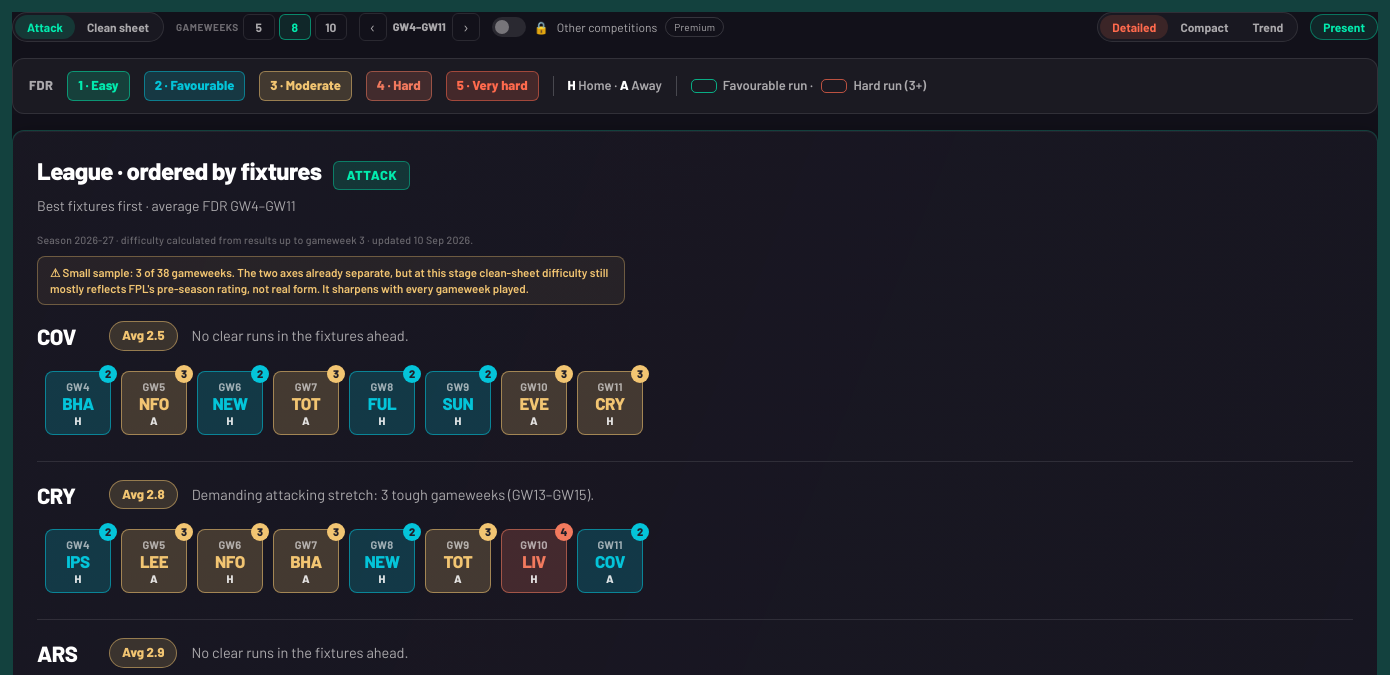
it: the /fixtures board › English: the locked switch for Free and Tribuna
This screenshot has width=1390, height=675.
expect the text "GW4–GW11" is shown: met, box [393,19,446,35]
Click the switch with test id "locked-competitions-toggle".
click(608, 27)  # box [492,17,724,37]
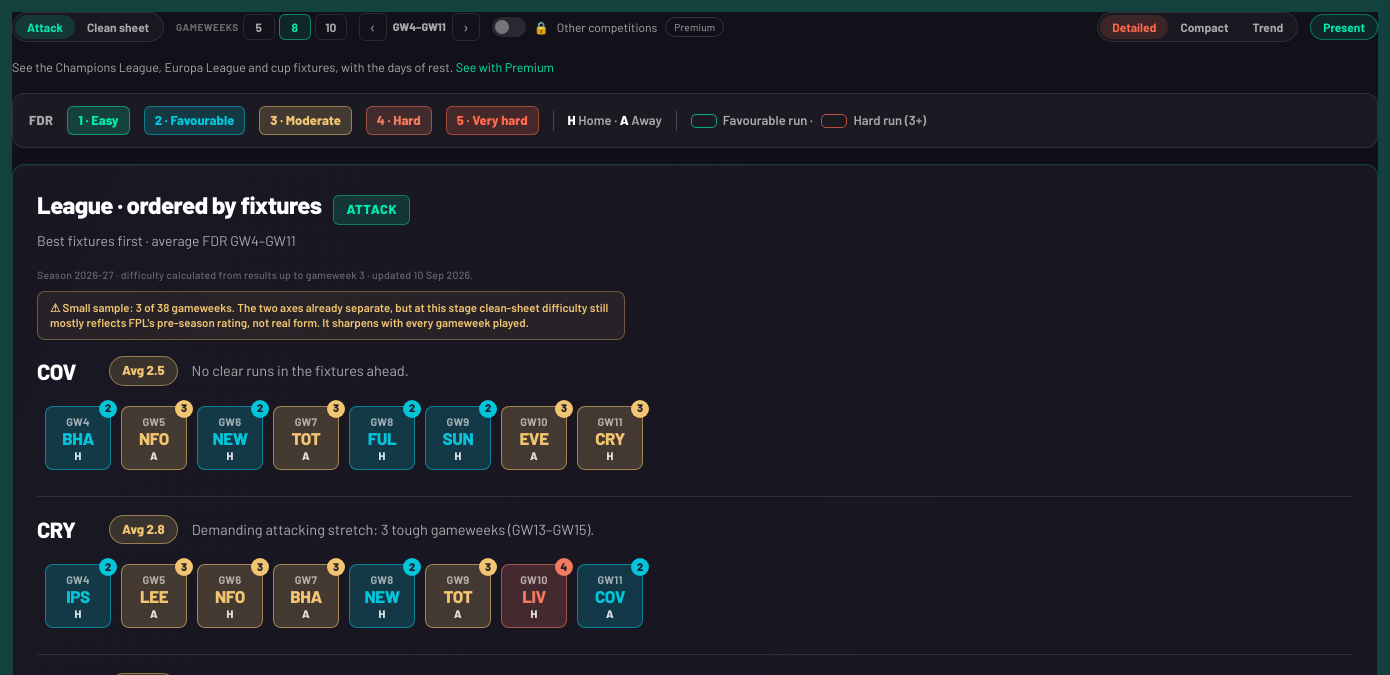
expect the message with test id "locked-competitions-line" reads "See the Champions League, Europa League and cup fixtures, with the days of rest.": met, box [12,59,453,75]
expect the link reads "See with Premium": met, box [456,59,554,75]
